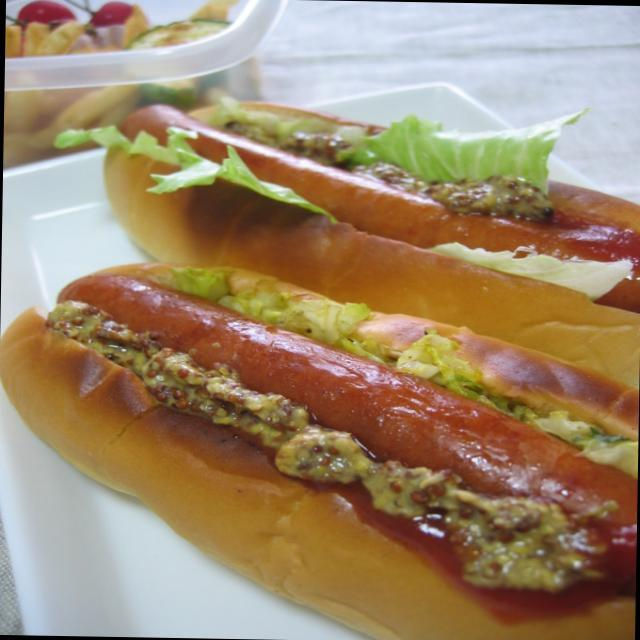Hot Dog: (0, 254, 640, 640)
